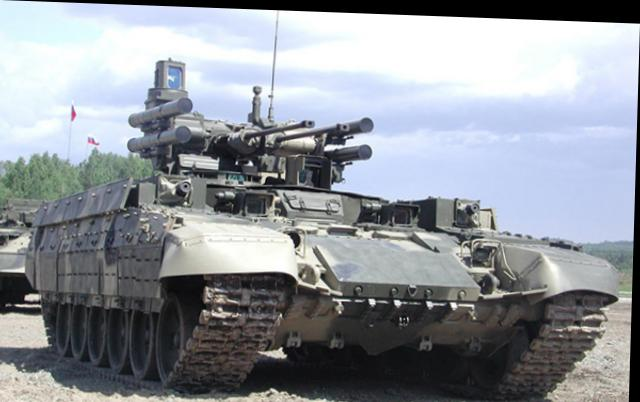tank: (23, 139, 619, 390)
